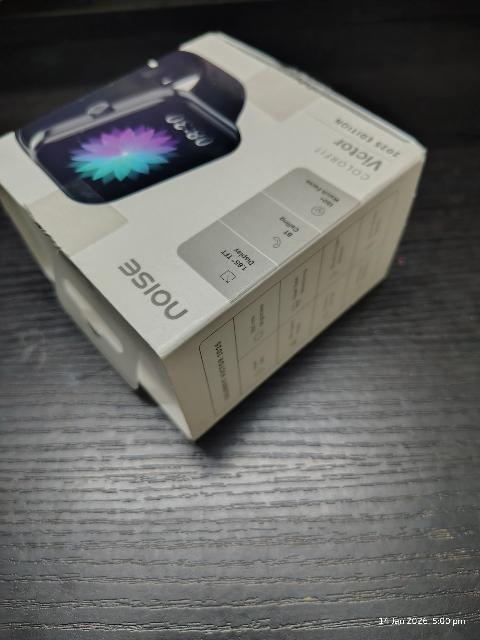noise victor smartwatch: (8, 47, 407, 360)
